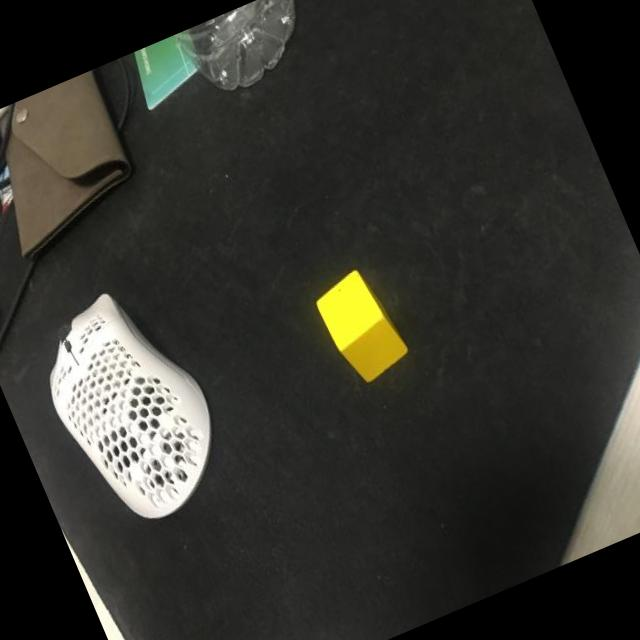yellow: (310, 263, 415, 390)
